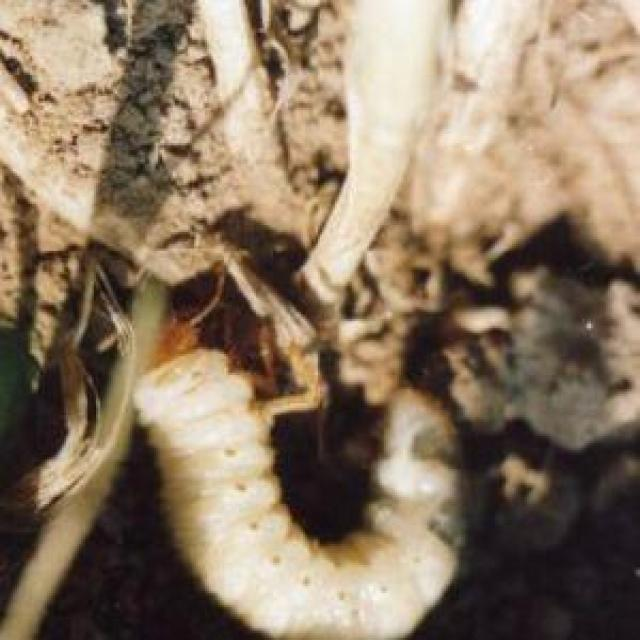Grub-Adult-: (120, 307, 484, 638)
